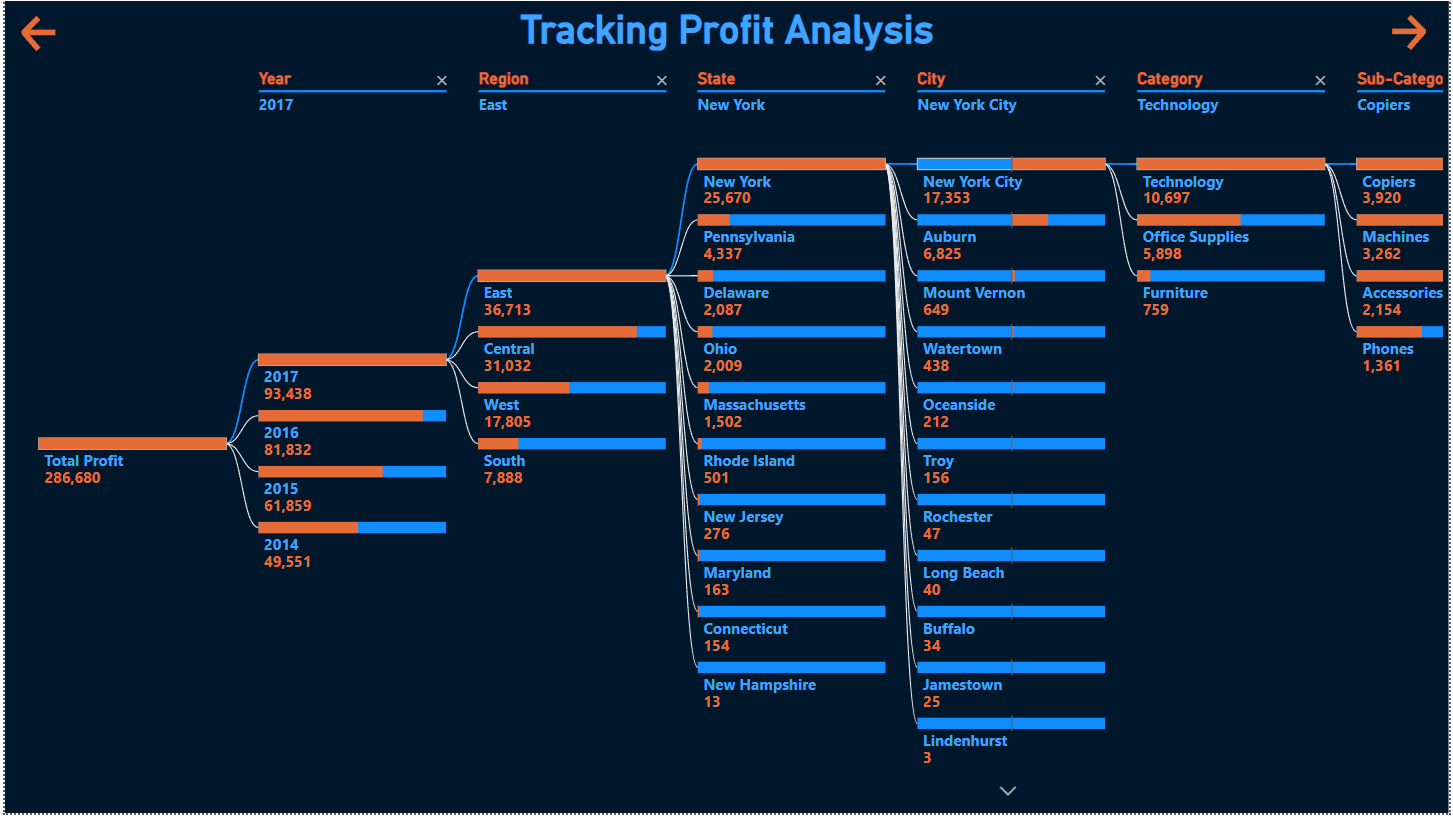

The page's visual inventory and layout, read from the dashboard file:
{"tool":"powerbi","page":{"name":"Tracking Profit Analysis","canvas":[1280,720],"ordinal":4},"visuals":[{"type":"decompositionTreeVisual","title":"Tracking Profit Analysis","fields":{"ExplainBy":["Calendar.Year","Dim Customers.Region","Dim Customers.State","Dim Customers.City","Dim Products.Category","Dim Products.Sub-Category","Dim Products.Product Name"],"Analyze":["All Measures.Total Profit"]},"box":[0,0,1280.4,720],"z":0},{"type":"actionButton","box":[1221,8,46.1,39.9],"z":1000},{"type":"actionButton","box":[11,9,40,40],"z":2000}]}

Visuals, with their boxes in screenshot pixels (x1, y1, x2, y2), scaled from the page's 1280x720 canvas onto the 1453x818 screenshot:
"Tracking Profit Analysis" decompositionTreeVisual: box=[0, 0, 1452, 817]
actionButton: box=[1386, 9, 1438, 54]
actionButton: box=[12, 10, 58, 56]
